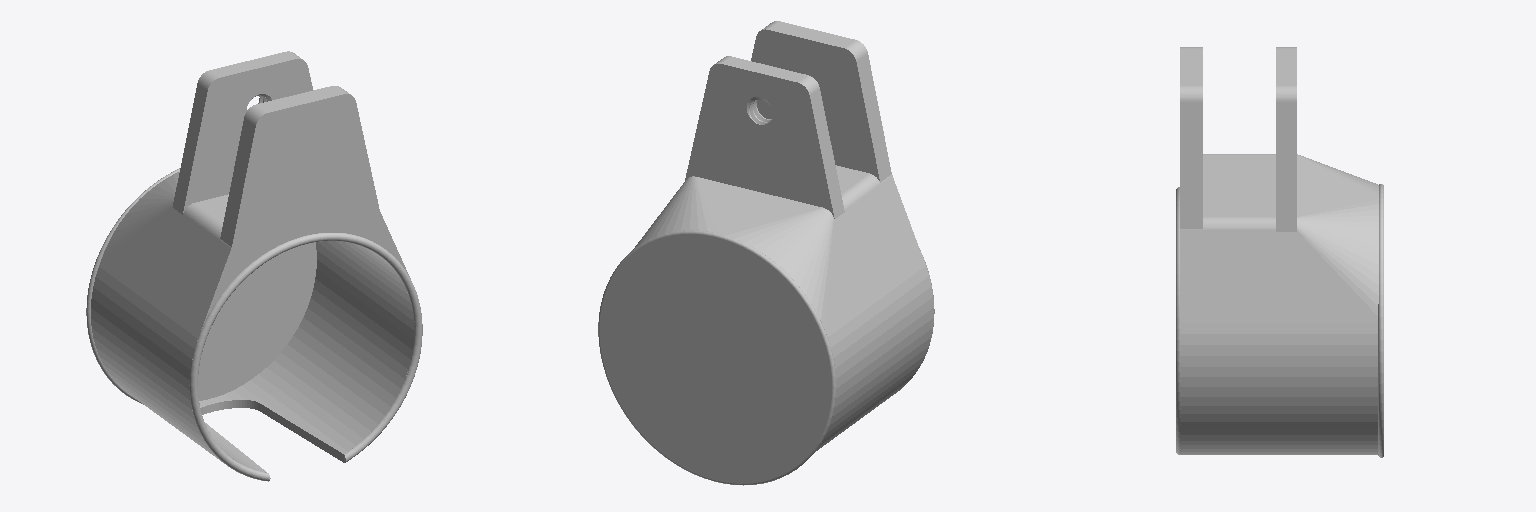
The model's file is cupholder.obj.
3 renders of one model, left to right at view 1: azimuth 30°, elevation 25°; view 2: azimuth 150°, elevation 25°; view 3: azimuth 270°, elevation 25°, orthographic.
Bounding box in the file's own units: 0.1034 × 0.1573 × 0.0786.